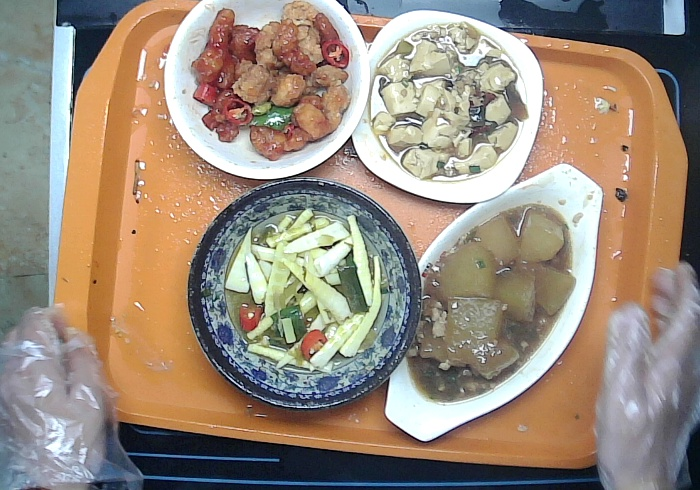ZNLD-Qing_Hua_Wan: (186, 179, 421, 416)
ZNLD-Si_Fang_Wan: (353, 12, 544, 207)
ZNLD-Tang_Wan: (161, 1, 370, 182)
ZNLD-Yu_Pan: (384, 161, 605, 444)
